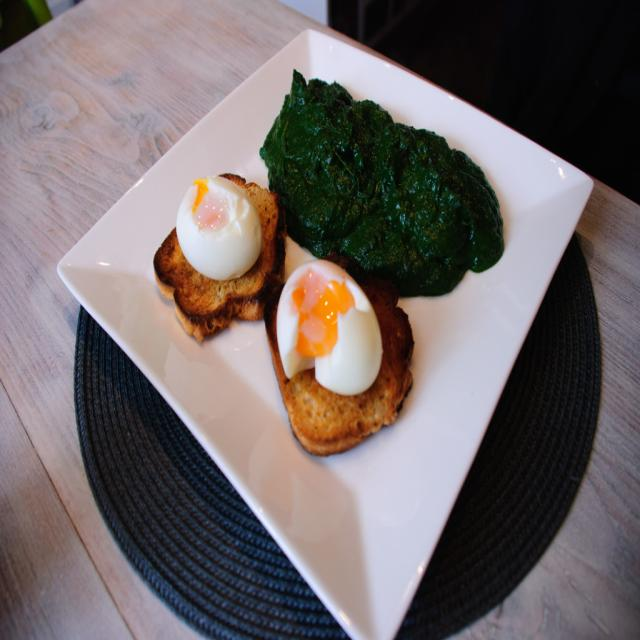Egg: (275, 260, 384, 396), (174, 178, 264, 280)
